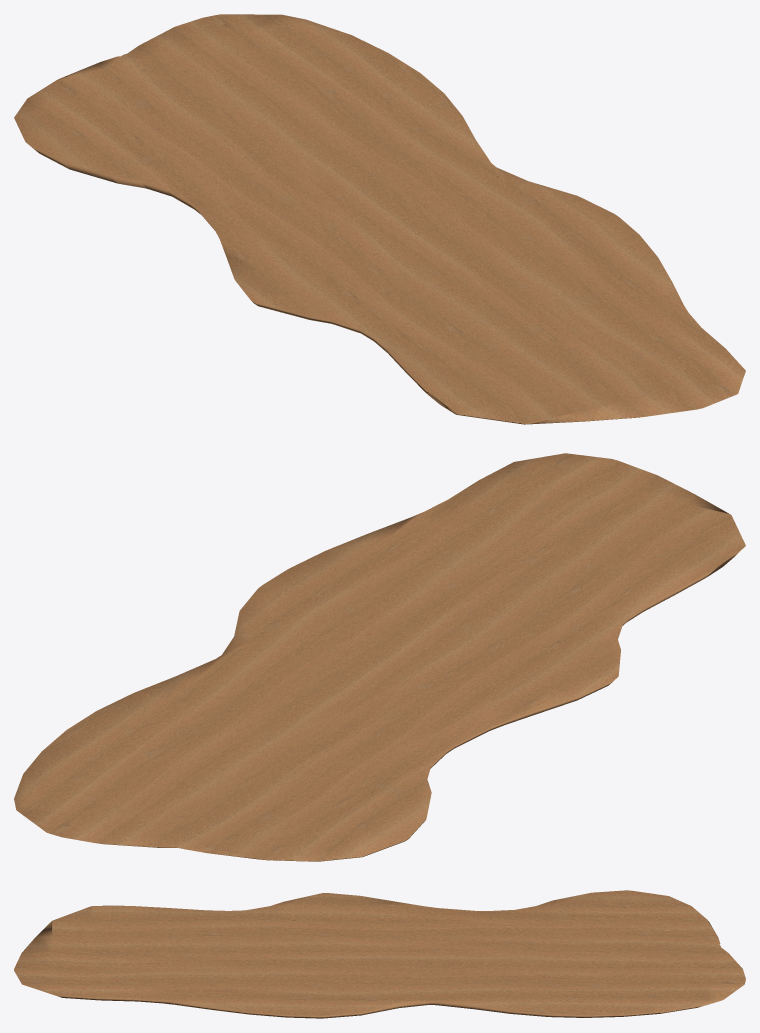
File: Sand06.fbx
The picture shows the model from 3 angles, top to bottom: view 1: azimuth 30°, elevation 25°; view 2: azimuth 150°, elevation 25°; view 3: azimuth 270°, elevation 25°; orthographic projection. The views are drawn at different scales.
Parts seen in each view (by area): view 1: Sand06; view 2: Sand06; view 3: Sand06.
Part boxes in pixels (<box>): Sand06: <box>14,14,745,424</box>; Sand06: <box>14,453,745,861</box>; Sand06: <box>14,890,745,1018</box>.
Bounding box in the file's own units: 243 × 4.22 × 601.
